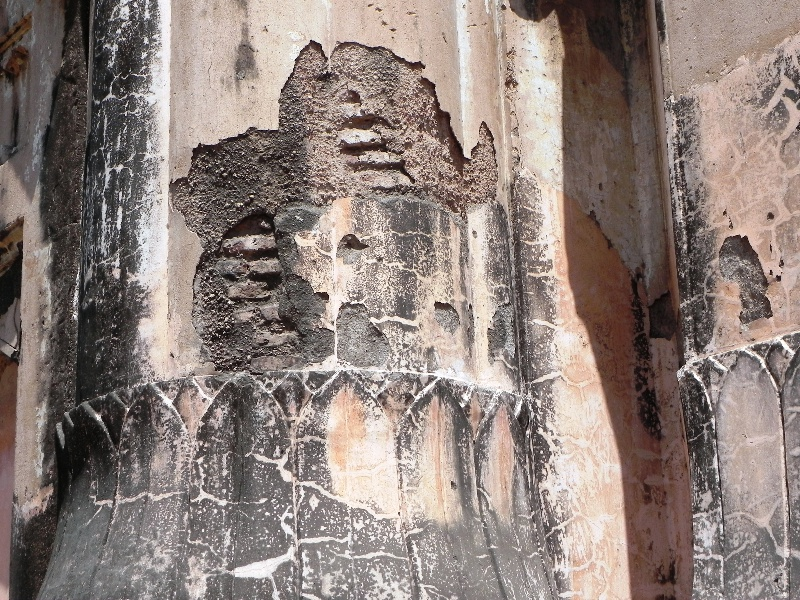Exposed Bricks: (222, 218, 297, 345), (334, 91, 413, 192)
Spalling: (159, 101, 323, 203), (421, 80, 510, 215), (708, 219, 775, 334)
